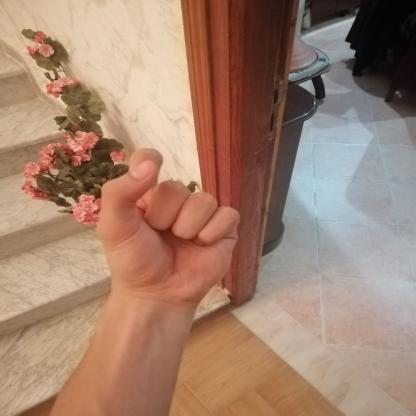FAA: (84, 141, 252, 314)
